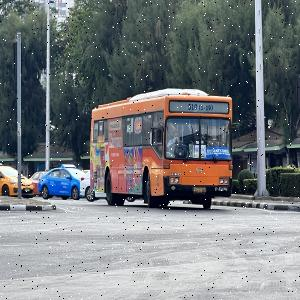BMTA-bus: (86, 89, 233, 210)
Bus Line Number: (186, 100, 215, 113)
Bus Side Number: (213, 184, 229, 193)
Destination Sign: (205, 146, 231, 159)
